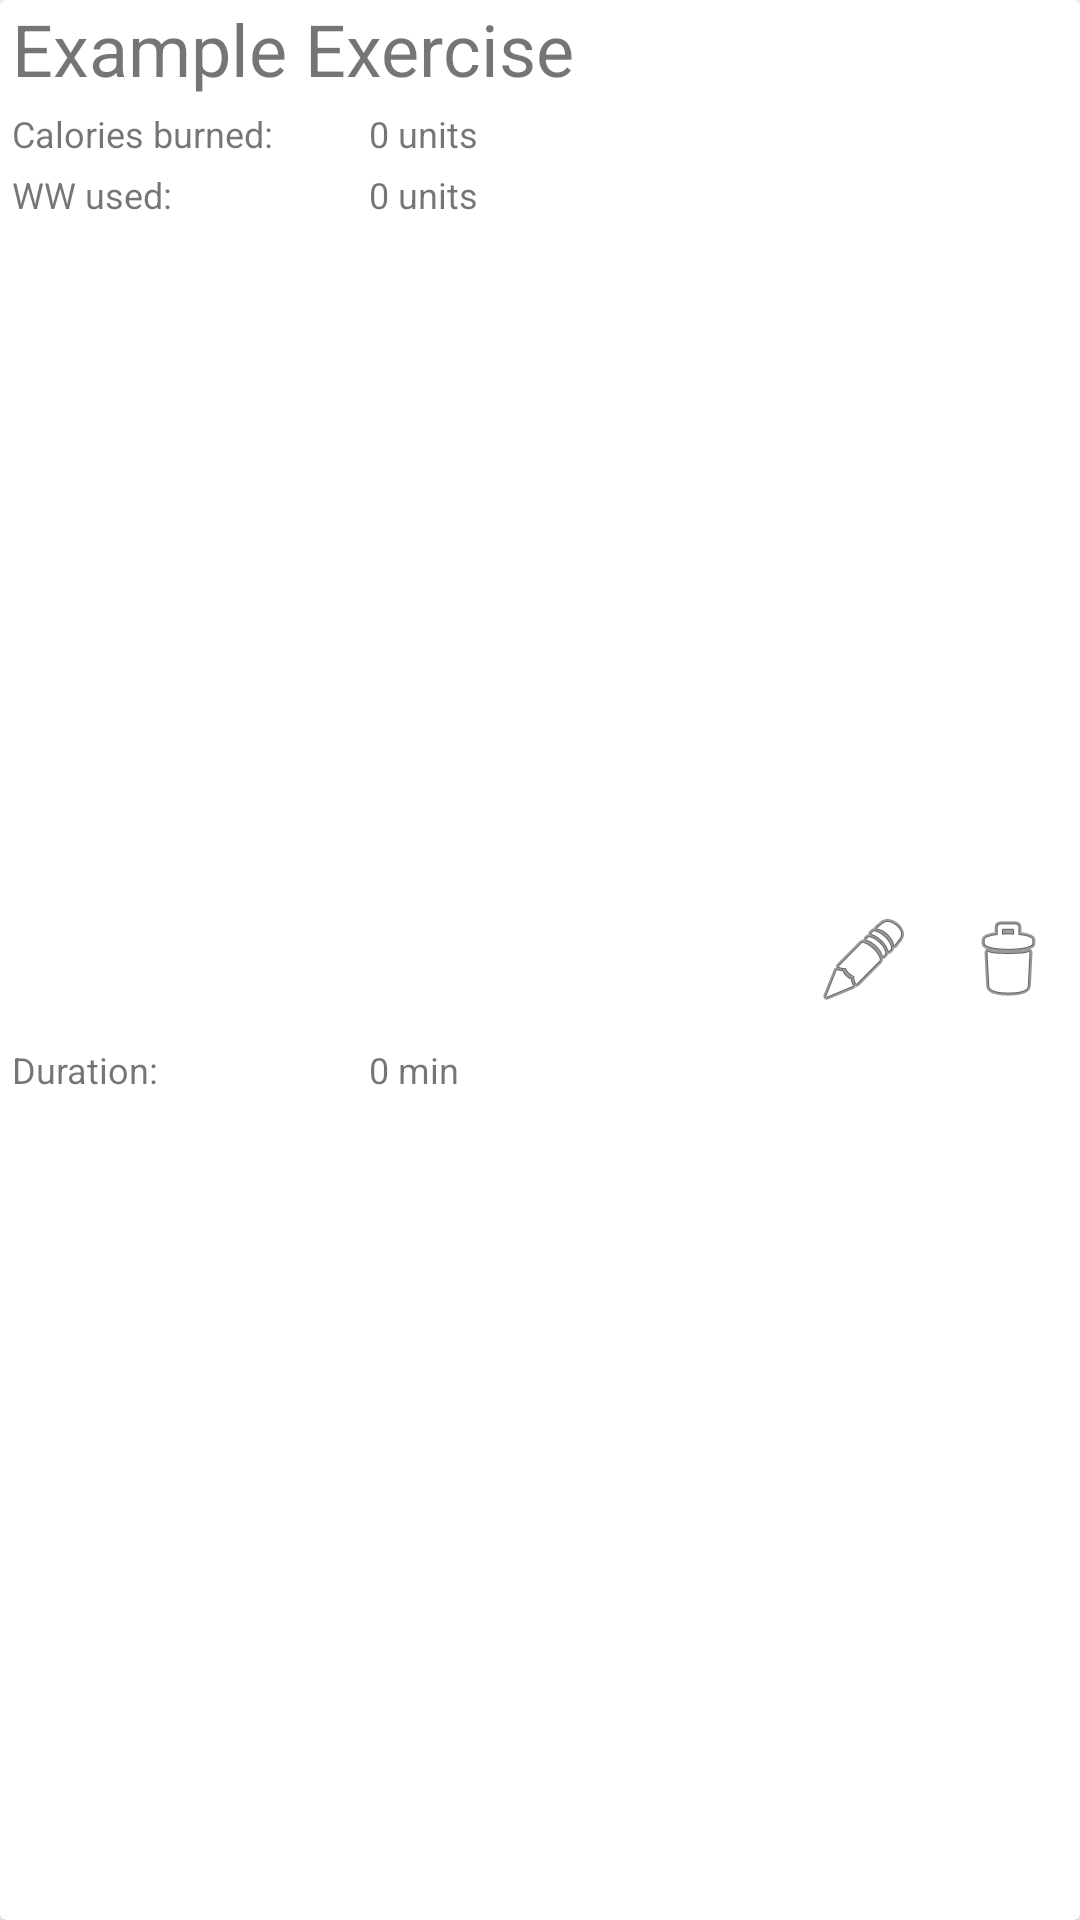

Point at icon controls on the screen. Image size 1080px×1920px, points as point (x, y).
Delete exercise: point (1008, 958)
Edit exercise: point (863, 959)
